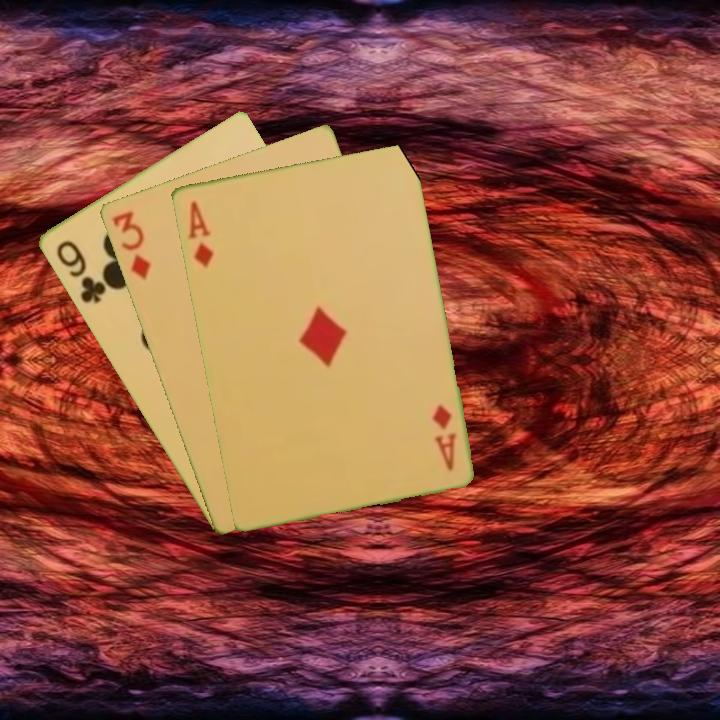3d: (108, 207, 153, 283)
9c: (52, 236, 109, 307)
Ad: (183, 197, 216, 270), (427, 401, 459, 474)
